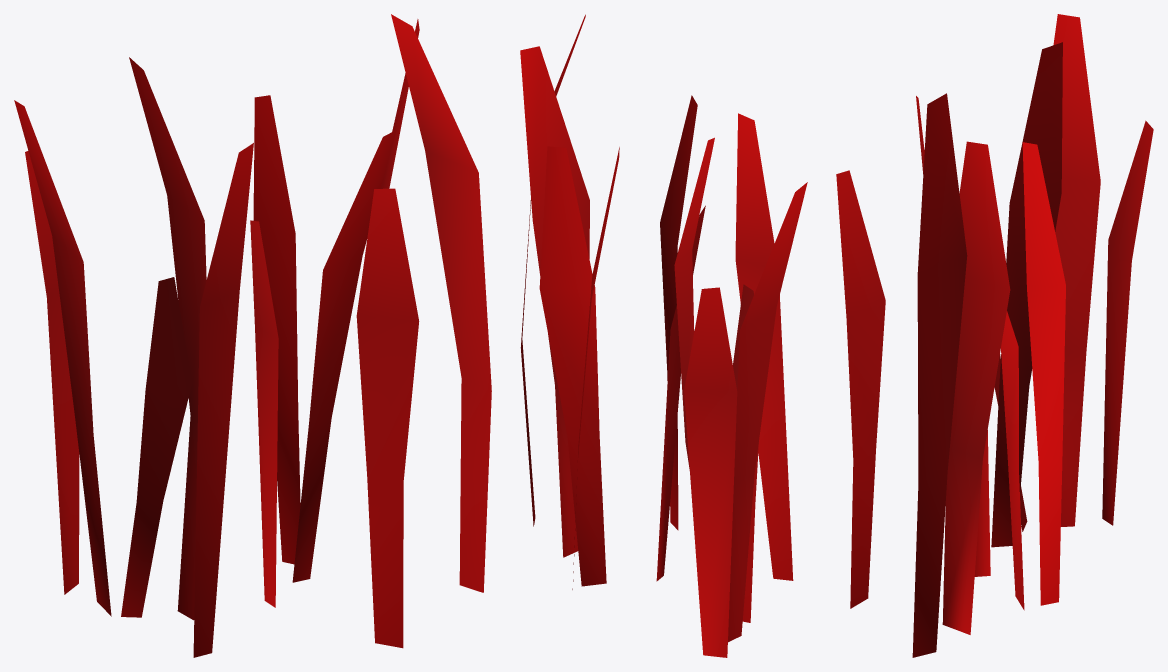
The model's file is SM_OatPlant_3.fbx.
The picture shows the model from 3 angles, left to right: view 1: azimuth 30°, elevation 25°; view 2: azimuth 150°, elevation 25°; view 3: azimuth 270°, elevation 25°; orthographic projection. The views are drawn at different scales.
Visible parts, largest first — view 1: SM_OatPlant_3; view 2: SM_OatPlant_3; view 3: SM_OatPlant_3.
Part boxes in pixels (x1,y1,x2,y2): SM_OatPlant_3: (14, 14, 491, 657); SM_OatPlant_3: (520, 14, 807, 657); SM_OatPlant_3: (836, 14, 1153, 657).
Bounding box in the file's own units: 0.2268 × 0.3265 × 0.1749.
